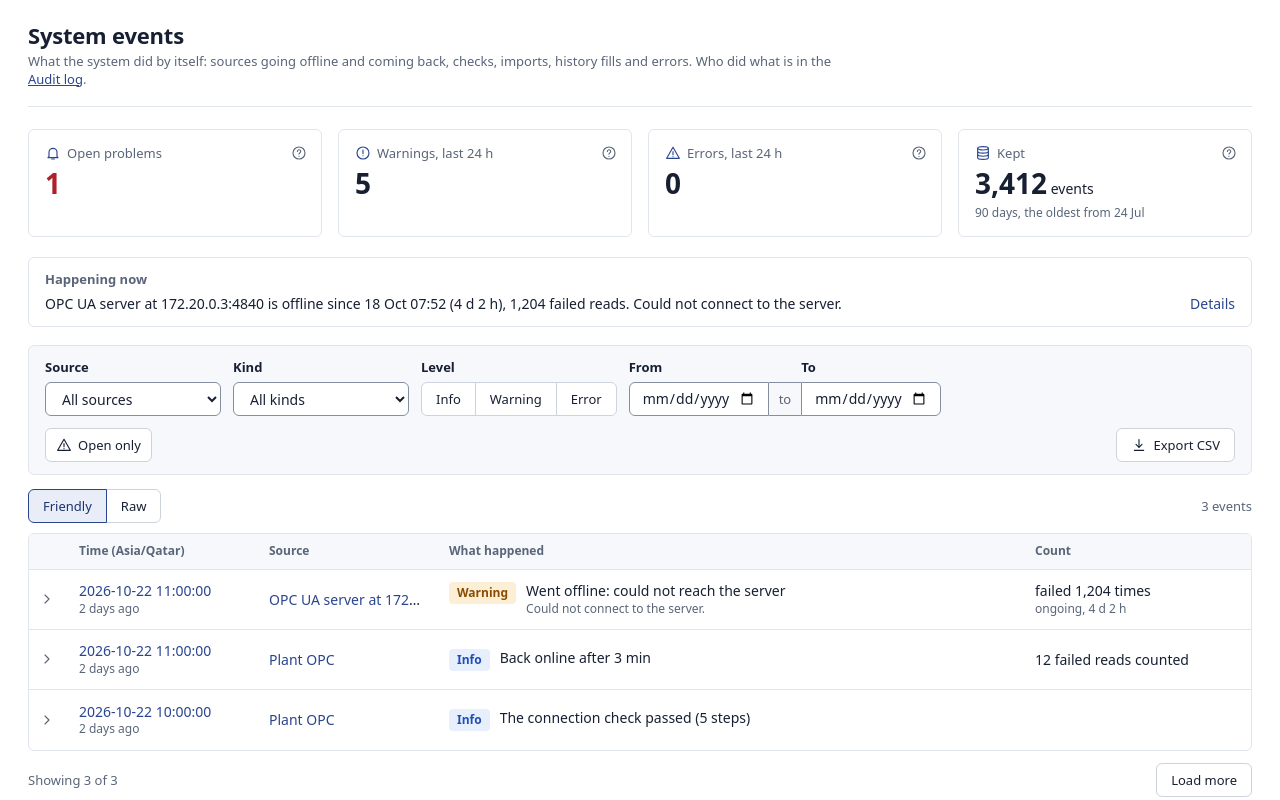
Test case: EventsPage: filters and paging (w32) › loads more with the cursor of the last page and no total, keeps what is shown, hides the button on the last page and puts focus on the first new row
Expected: the row "OPC UA server" is shown, [29,570,1251,630]
Expected: the text "Showing 3 of 3" is shown, [28,771,118,789]
Click the button "Load more" at x=1204, y=780, box [1156,763,1252,797]
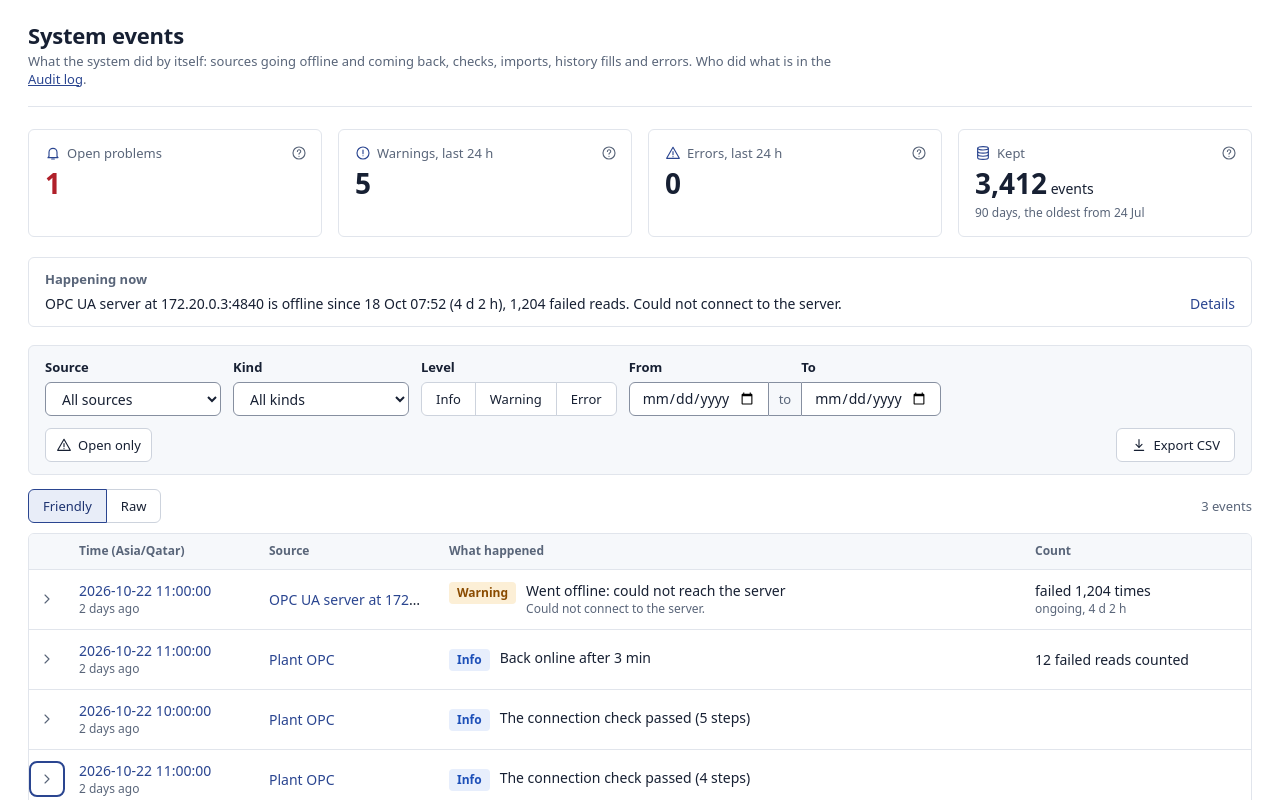
Expected: the button "Load more" is gone
